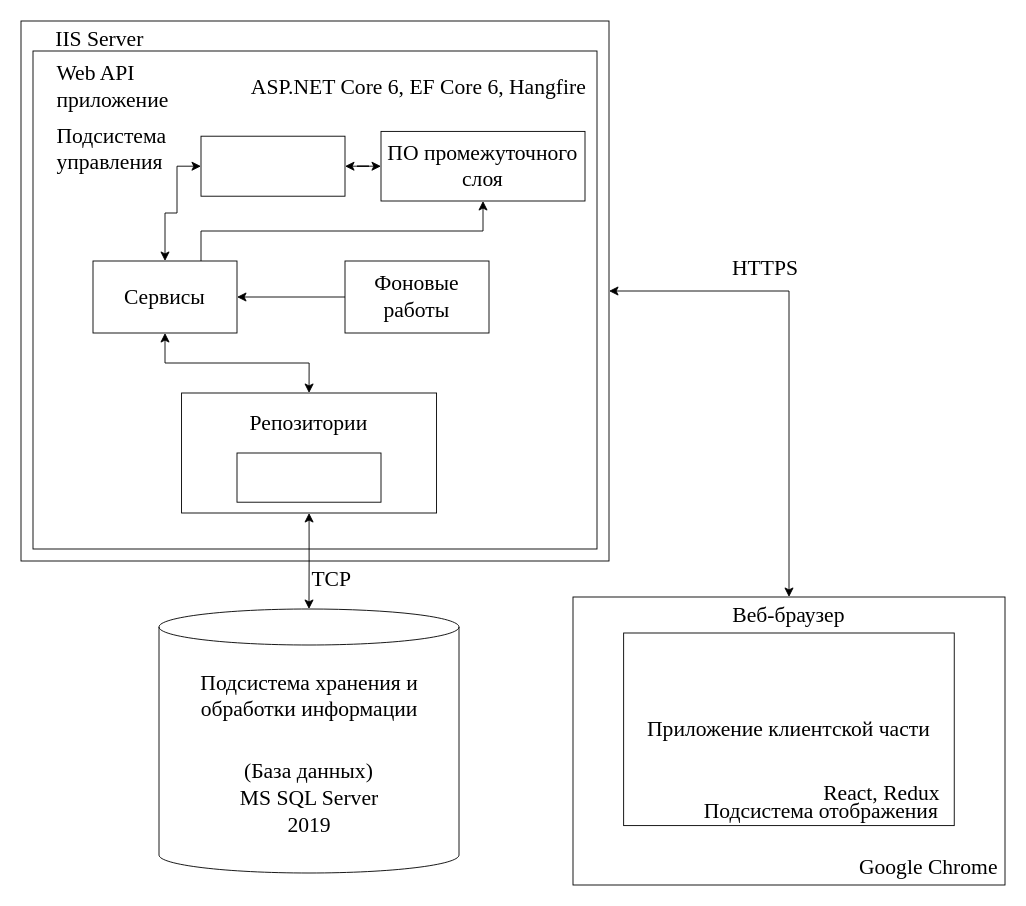
The diagram is 1026 pixels wide and 906 high, and some of its shapes have lost their labels. Here are the shapes that lost their labels. From the top down, the box of each, then its label:
(200, 135, 345, 196): Контроллеры
(236, 452, 381, 502): ORM EF Core
